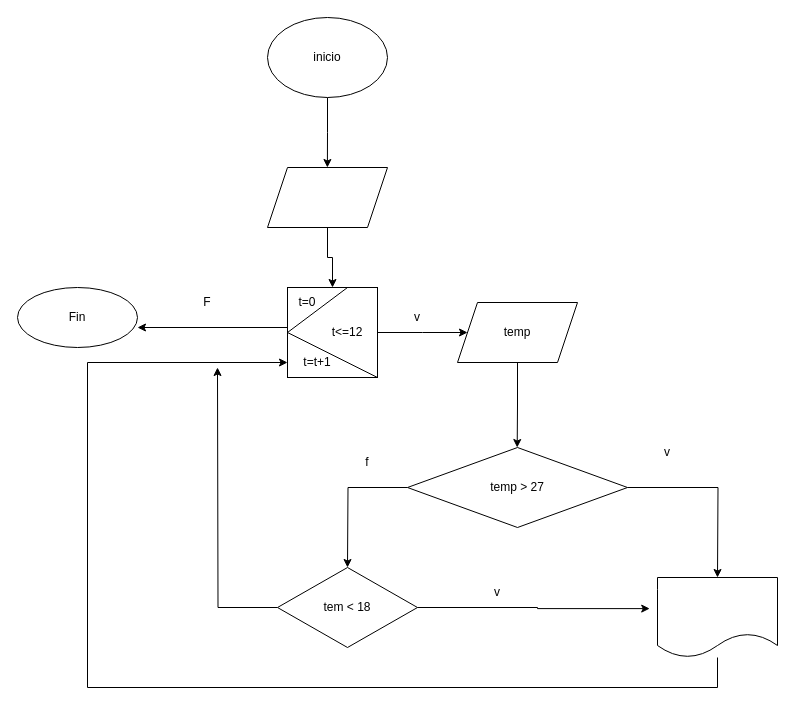
Some shapes in this 795 by 713 pixel diagram are drawn without their labels. Each missing label, with the centre of its shape:
activar sistema de climatización: [717,617]
leer t: [327,197]
